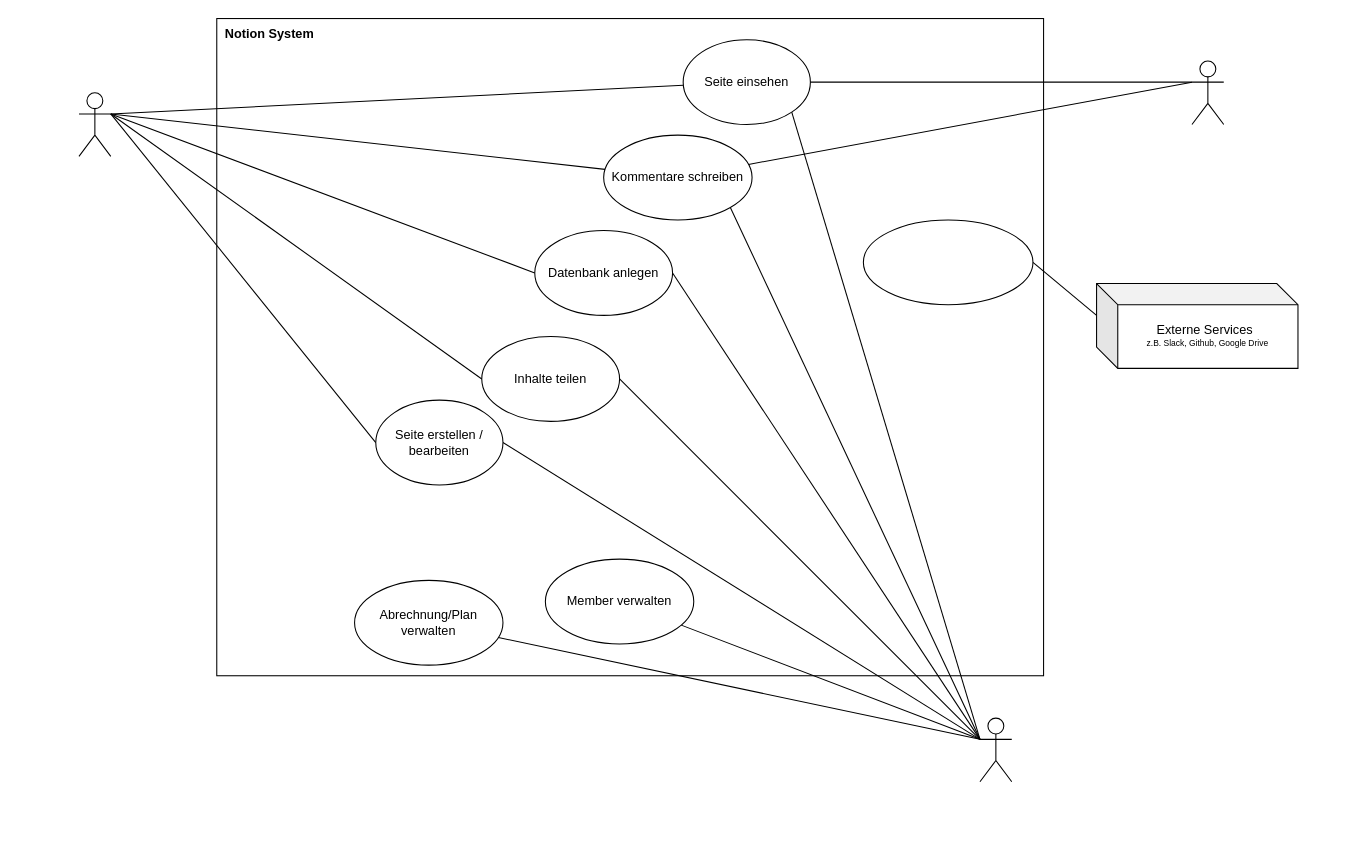
This 1347x866 diagram has some shape labels left out. The shapes that lost their labels are listed below. From the top down, each one's centre as x and y in pixels, then its label:
At (1207,92): "Guest Externe Benutzer, die nur Zugriff auf freigegebene Seiten haben.".
At (94,124): "Workspace Member Der normale Anwender, der Notion nutzt.".
At (947,262): "Inhalte synchronisieren".
At (995,749): "Workspace Owner Eine Person mit erweiterten Rechten auf Workspace-Ebene.".
